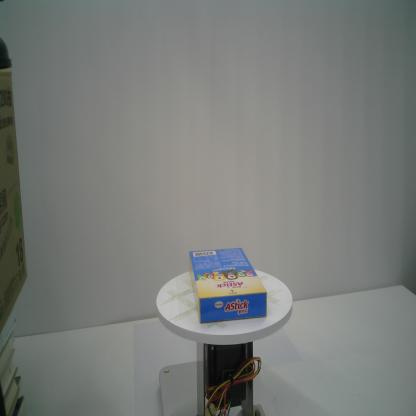Dessert: (188, 248, 266, 323)
